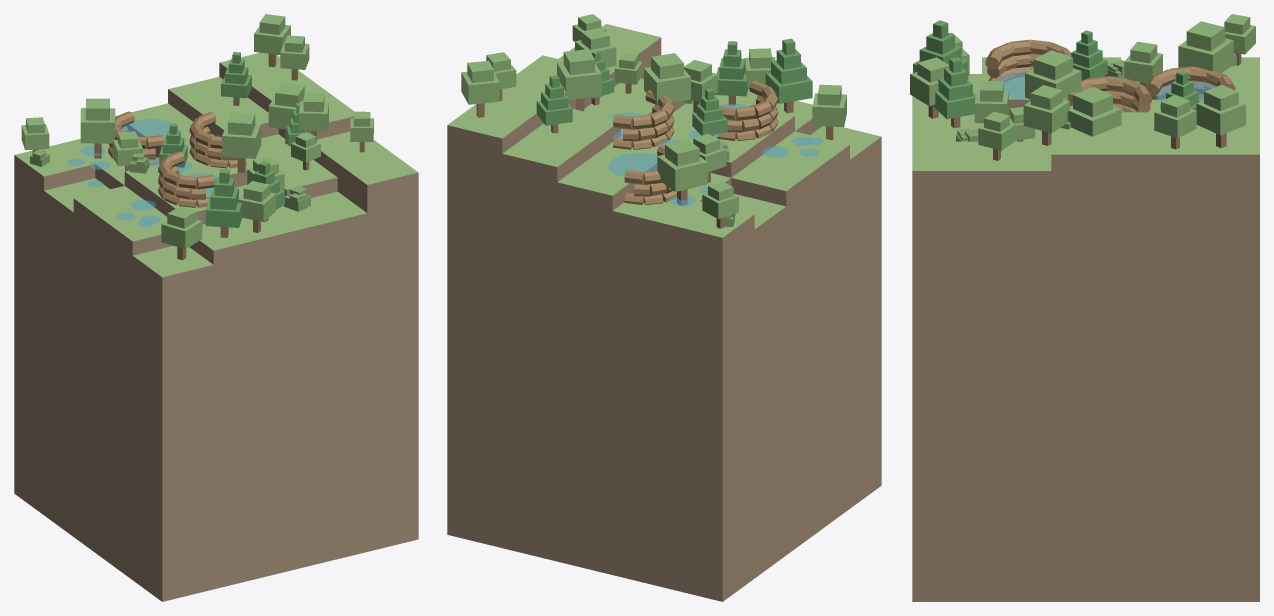
Rendered from block_2_leakingdam_100.glb.
The picture shows the model from 3 angles, left to right: view 1: azimuth 30°, elevation 25°; view 2: azimuth 150°, elevation 25°; view 3: azimuth 270°, elevation 25°; orthographic projection. The views are drawn at different scales.
Visible parts, largest first — view 1: Patch_UpperLeft_b06_LD, LD_Dam_02, LD_Water_02, LD_Veg_02_000, LD_Veg_02_002, LD_Veg_02_004, LD_Veg_02_014, LD_Veg_02_016, LD_Veg_02_007, LD_Veg_02_019, LD_Veg_02_017, LD_Veg_02_013 (+7 smaller); view 2: Patch_UpperLeft_b06_LD, LD_Dam_02, LD_Water_02, LD_Veg_02_004, LD_Veg_02_002, LD_Veg_02_019, LD_Veg_02_000, LD_Veg_02_007, LD_Veg_02_014, LD_Veg_02_018, LD_Veg_02_017, LD_Veg_02_015 (+7 smaller); view 3: Patch_UpperLeft_b06_LD, LD_Dam_02, LD_Veg_02_004, LD_Veg_02_007, LD_Veg_02_019, LD_Veg_02_018, LD_Veg_02_000, LD_Veg_02_013, LD_Veg_02_006, LD_Veg_02_016, LD_Veg_02_002, LD_Veg_02_010 (+7 smaller).
Part boxes in pixels (x1=…): Patch_UpperLeft_b06_LD: x1=14, y1=52, x2=418, y2=601; LD_Dam_02: x1=108, y1=111, x2=246, y2=210; LD_Water_02: x1=67, y1=119, x2=261, y2=227; LD_Veg_02_000: x1=222, y1=112, x2=261, y2=172; LD_Veg_02_002: x1=205, y1=169, x2=241, y2=237; LD_Veg_02_004: x1=80, y1=98, x2=115, y2=158; LD_Veg_02_014: x1=161, y1=206, x2=202, y2=260; LD_Veg_02_016: x1=238, y1=181, x2=276, y2=232; LD_Veg_02_007: x1=254, y1=14, x2=290, y2=67; LD_Veg_02_019: x1=268, y1=83, x2=304, y2=144; LD_Veg_02_017: x1=221, y1=52, x2=251, y2=105; LD_Veg_02_013: x1=299, y1=93, x2=328, y2=141; Patch_UpperLeft_b06_LD: x1=447, y1=24, x2=881, y2=601; LD_Dam_02: x1=613, y1=80, x2=778, y2=204; LD_Water_02: x1=606, y1=104, x2=823, y2=206; LD_Veg_02_004: x1=657, y1=139, x2=707, y2=205; LD_Veg_02_002: x1=765, y1=38, x2=812, y2=113; LD_Veg_02_019: x1=557, y1=49, x2=601, y2=111; LD_Veg_02_000: x1=644, y1=53, x2=690, y2=114; LD_Veg_02_007: x1=461, y1=60, x2=499, y2=117; LD_Veg_02_014: x1=812, y1=84, x2=846, y2=140; LD_Veg_02_018: x1=715, y1=41, x2=747, y2=105; LD_Veg_02_017: x1=536, y1=75, x2=572, y2=133; LD_Veg_02_015: x1=692, y1=88, x2=727, y2=135; Patch_UpperLeft_b06_LD: x1=912, y1=57, x2=1259, y2=601; LD_Dam_02: x1=985, y1=39, x2=1235, y2=112; LD_Veg_02_004: x1=1178, y1=21, x2=1233, y2=72; LD_Veg_02_007: x1=1196, y1=84, x2=1245, y2=148; LD_Veg_02_019: x1=1068, y1=87, x2=1121, y2=136; LD_Veg_02_018: x1=933, y1=57, x2=975, y2=128; LD_Veg_02_000: x1=1025, y1=50, x2=1081, y2=99; LD_Veg_02_013: x1=1023, y1=85, x2=1069, y2=145; LD_Veg_02_006: x1=1154, y1=95, x2=1196, y2=149; LD_Veg_02_016: x1=910, y1=57, x2=949, y2=118; LD_Veg_02_002: x1=913, y1=20, x2=968, y2=79; LD_Veg_02_010: x1=1124, y1=41, x2=1162, y2=86.
Size of the model in its own units: 9.72 by 15.14 by 9.57.
